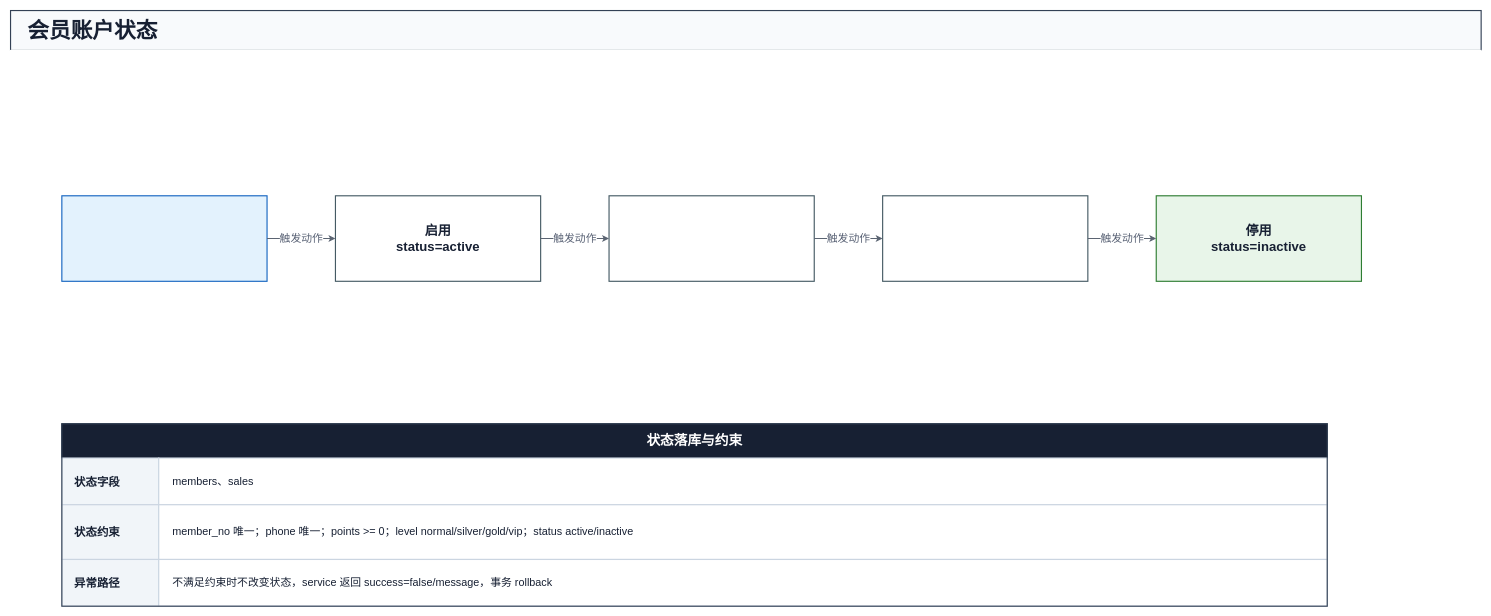
Some shapes in this 1491 by 616 pixel diagram are drawn without their labels. Here are the shapes that lost their labels. From the top down, the centre of each, then its label:
the point at 745,62: 状态图｜状态、触发动作、持久化字段
the point at 164,238: 新建 create_member
the point at 711,238: 积分变动 adjust_member_points
the point at 985,238: 升级/降级 level 字段维护
